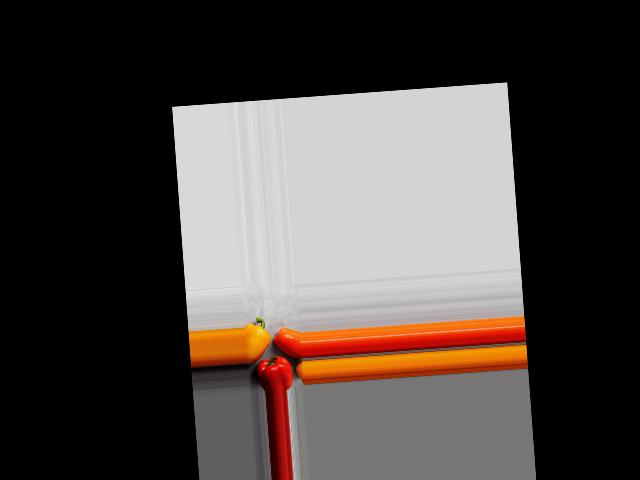bell_pepper: (253, 354, 294, 391)
